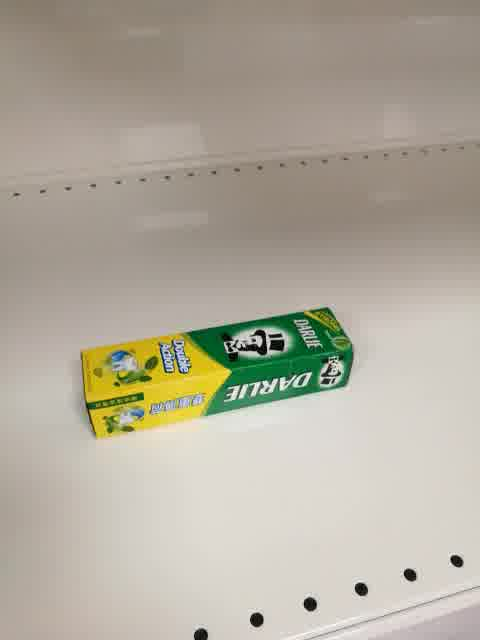toothpaste: (78, 305, 355, 441)
